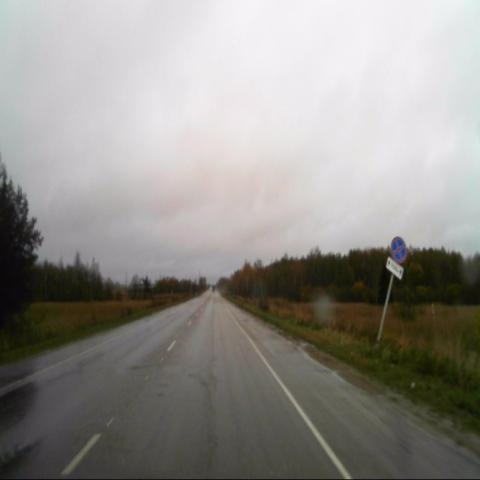3_27: (390, 236, 407, 264)
